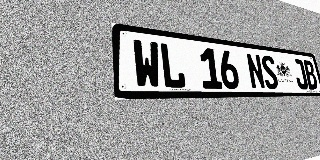1: (198, 47, 223, 89)
6: (217, 49, 240, 89)
B: (302, 60, 319, 89)
J: (292, 58, 309, 89)
L: (159, 42, 186, 89)
N: (245, 53, 266, 89)
S: (260, 55, 279, 89)
W: (132, 39, 162, 89)
